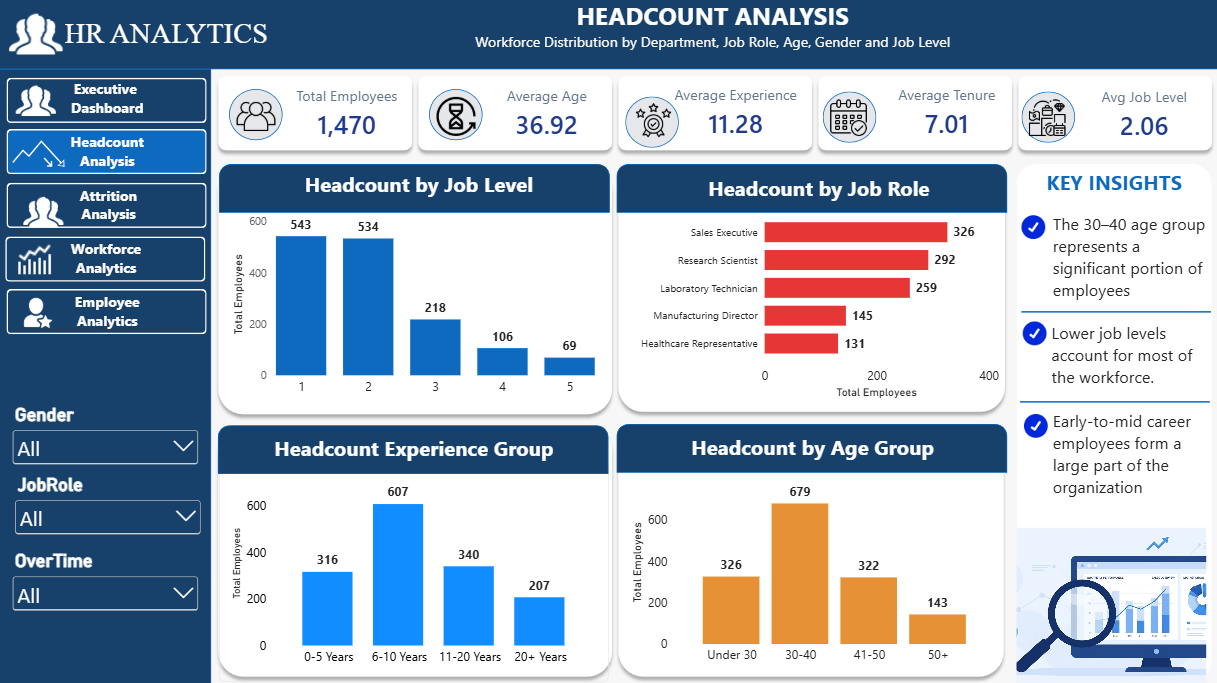

This screenshot's page, from the dashboard's own definition file:
{"tool":"powerbi","page":{"name":"HEADCOUNT ANALYSIS","canvas":[1600,900],"ordinal":1},"visuals":[{"type":"shape","box":[0,92.2,278.1,807.8],"z":0},{"type":"shape","box":[0,0,1600,92.2],"z":1000},{"type":"shape","box":[278.1,92.2,271.9,115.6],"z":2000},{"type":"shape","box":[540.6,92.2,271.9,115.6],"z":3000},{"type":"shape","box":[803.1,92.2,271.9,115.6],"z":4000},{"type":"shape","box":[1065.6,92.2,271.9,115.6],"z":5000},{"type":"shape","box":[1328.1,92.2,271.9,115.6],"z":6000},{"type":"shape","box":[278.1,207.8,534.4,345.3],"z":7000},{"type":"shape","box":[803.1,207.8,525,342.2],"z":8000},{"type":"shape","box":[9.4,103.1,262.5,59.4],"z":9000},{"type":"shape","box":[278.1,550,534.4,346.9],"z":10000},{"type":"shape","box":[803.1,550,523.4,346.9],"z":11000},{"type":"shape","box":[1334.4,215.6,256.2,676.6],"z":12000},{"type":"cardVisual","fields":{"Data":["_Measures.Total Employees"]},"box":[371.9,101.6,168.8,98.4],"z":13000},{"type":"cardVisual","fields":{"Data":["_Measures.Average Age"]},"box":[634.4,101.6,168.8,98.4],"z":14000},{"type":"cardVisual","fields":{"Data":["_Measures.Average Experience"]},"box":[867.2,100,198.4,98.4],"z":15000},{"type":"cardVisual","fields":{"Data":["_Measures.Average Tenure"]},"box":[1159.4,100,168.8,98.4],"z":16000},{"type":"cardVisual","fields":{"Data":["_Measures.Average Job Level"]},"box":[1418.8,103.1,168.8,98.4],"z":17000},{"type":"shape","box":[301.6,118.8,70.3,67.2],"z":18000},{"type":"shape","box":[564.1,118.8,70.3,67.2],"z":19000},{"type":"clusteredColumnChart","fields":{"Category":["HR Dataset.JobLevel"],"Y":["_Measures.Total Employees"]},"box":[290.6,256.2,509.4,284.4],"z":20000},{"type":"clusteredBarChart","fields":{"Category":["HR Dataset.JobRole"],"Y":["_Measures.Total Employees"]},"box":[812.5,256.2,514.1,284.4],"z":21000},{"type":"columnChart","fields":{"Category":["HR Dataset.Experience Group"],"Y":["_Measures.Total Employees"]},"box":[289.1,607.8,510.9,287.5],"z":22000},{"type":"columnChart","fields":{"Category":["HR Dataset.Age Group"],"Y":["_Measures.Total Employees"]},"box":[812.5,607.8,509.4,284.4],"z":23000},{"type":"shape","box":[289.1,215.6,512.5,64.1],"z":24000},{"type":"shape","box":[809.4,217.2,512.5,64.1],"z":25000},{"type":"shape","box":[287.5,559.4,512.5,64.1],"z":26000},{"type":"shape","box":[809.4,557.8,512.5,64.1],"z":27000},{"type":"slicer","fields":{"Values":["HR Dataset.Gender"]},"box":[12.5,531.2,253.1,82.8],"z":28000},{"type":"slicer","fields":{"Values":["HR Dataset.JobRole"]},"box":[15.6,623.4,253.1,82.8],"z":29000},{"type":"slicer","fields":{"Values":["HR Dataset.OverTime"]},"box":[12.5,723.4,253.1,82.8],"z":30000},{"type":"shape","box":[9.4,240.6,262.5,59.4],"z":31000},{"type":"shape","box":[7.8,310.9,262.5,59.4],"z":32000},{"type":"shape","box":[9.4,379.7,262.5,59.4],"z":33000},{"type":"textbox","box":[10.9,104.7,260.9,53.1],"z":34000},{"type":"textbox","box":[12.5,243.8,260.9,53.1],"z":35000},{"type":"textbox","box":[9.4,314.1,260.9,53.1],"z":36000},{"type":"textbox","box":[10.9,382.8,260.9,53.1],"z":37000},{"type":"textbox","box":[550,0,770.3,92.2],"z":38000},{"type":"textbox","box":[82.8,23.4,271.9,68.8],"z":39000},{"type":"textbox","box":[314.1,225,471.9,45.3],"z":40000},{"type":"textbox","box":[839.1,229.7,471.9,45.3],"z":41000},{"type":"textbox","box":[307.8,570.3,471.9,45.3],"z":42000},{"type":"textbox","box":[831.2,568.8,471.9,45.3],"z":43000},{"type":"textbox","box":[1337.5,221.9,250,45.3],"z":44000},{"type":"textbox","box":[1381.2,279.7,206.2,118.8],"z":45000},{"type":"textbox","box":[1379.7,423.4,206.2,93.8],"z":46000},{"type":"textbox","box":[1381.2,537.5,201.6,126.6],"z":47000},{"type":"shape","box":[1340.6,403.1,248.4,14.1],"z":48000},{"type":"shape","box":[1339.1,521.9,248.4,14.1],"z":49000},{"type":"image","box":[310.9,115.6,51.6,75],"z":50000},{"type":"image","box":[573.4,115.6,51.6,75],"z":51000},{"type":"image","box":[12.5,9.4,70.3,75],"z":52000},{"type":"image","box":[1339.1,282.8,34.4,31.2],"z":53000},{"type":"image","box":[1340.6,423.4,34.4,31.2],"z":54000},{"type":"image","box":[1342.2,543.8,34.4,31.2],"z":55000},{"type":"image","box":[22.5,253.8,70.3,53.1],"z":56000},{"type":"image","box":[10.9,314.1,70.3,53.1],"z":57000},{"type":"image","box":[12.5,382.8,70.3,53.1],"z":58000},{"type":"image","box":[12.5,107.8,70.3,53.1],"z":59000},{"type":"image","box":[1334.4,693.8,248.4,203.1],"z":60000},{"type":"shape","box":[9.4,170.3,262.5,59.4],"z":61000},{"type":"textbox","box":[10.9,173.4,260.9,53.1],"z":62000},{"type":"image","box":[15.6,175,70.3,53.1],"z":63000},{"type":"shape","box":[822,128,70.3,67.2],"z":64000},{"type":"image","box":[832,122,51.6,75],"z":65000},{"type":"shape","box":[1079.6,120.8,70.3,67.2],"z":66000},{"type":"image","box":[1088.9,117.6,51.6,75],"z":67000},{"type":"shape","box":[1340.4,120.8,70.3,67.2],"z":68000},{"type":"image","box":[1349.7,117.6,51.6,75],"z":69000},{"type":"actionButton","box":[6.6,241,264.7,58.8],"z":69001},{"type":"actionButton","box":[6.6,104.9,264.7,58.8],"z":69002},{"type":"actionButton","box":[8.2,311.5,264.7,58.8],"z":69003},{"type":"actionButton","box":[11.5,380.3,264.7,58.8],"z":69004}]}

Visuals, with their boxes in screenshot pixels (x1, y1, x2, y2), scaled from the page's 1600x900 canvas onto the 1217x683 screenshot:
shape: [x1=0, y1=70, x2=212, y2=682]
shape: [x1=0, y1=0, x2=1216, y2=70]
shape: [x1=212, y1=70, x2=418, y2=158]
shape: [x1=411, y1=70, x2=618, y2=158]
shape: [x1=611, y1=70, x2=818, y2=158]
shape: [x1=811, y1=70, x2=1017, y2=158]
shape: [x1=1010, y1=70, x2=1216, y2=158]
shape: [x1=212, y1=158, x2=618, y2=420]
shape: [x1=611, y1=158, x2=1010, y2=417]
shape: [x1=7, y1=78, x2=207, y2=123]
shape: [x1=212, y1=417, x2=618, y2=681]
shape: [x1=611, y1=417, x2=1009, y2=681]
shape: [x1=1015, y1=164, x2=1210, y2=677]
cardVisual - _Measures.Total Employees: [x1=283, y1=77, x2=411, y2=152]
cardVisual - _Measures.Average Age: [x1=483, y1=77, x2=611, y2=152]
cardVisual - _Measures.Average Experience: [x1=660, y1=76, x2=811, y2=151]
cardVisual - _Measures.Average Tenure: [x1=882, y1=76, x2=1010, y2=151]
cardVisual - _Measures.Average Job Level: [x1=1079, y1=78, x2=1208, y2=153]
shape: [x1=229, y1=90, x2=283, y2=141]
shape: [x1=429, y1=90, x2=483, y2=141]
clusteredColumnChart - HR Dataset.JobLevel x _Measures.Total Employees: [x1=221, y1=194, x2=608, y2=410]
clusteredBarChart - HR Dataset.JobRole x _Measures.Total Employees: [x1=618, y1=194, x2=1009, y2=410]
columnChart - HR Dataset.Experience Group x _Measures.Total Employees: [x1=220, y1=461, x2=608, y2=679]
columnChart - HR Dataset.Age Group x _Measures.Total Employees: [x1=618, y1=461, x2=1005, y2=677]
shape: [x1=220, y1=164, x2=610, y2=212]
shape: [x1=616, y1=165, x2=1005, y2=213]
shape: [x1=219, y1=425, x2=608, y2=473]
shape: [x1=616, y1=423, x2=1005, y2=472]
slicer - HR Dataset.Gender: [x1=10, y1=403, x2=202, y2=466]
slicer - HR Dataset.JobRole: [x1=12, y1=473, x2=204, y2=536]
slicer - HR Dataset.OverTime: [x1=10, y1=549, x2=202, y2=612]
shape: [x1=7, y1=183, x2=207, y2=228]
shape: [x1=6, y1=236, x2=206, y2=281]
shape: [x1=7, y1=288, x2=207, y2=333]
textbox: [x1=8, y1=79, x2=207, y2=120]
textbox: [x1=10, y1=185, x2=208, y2=225]
textbox: [x1=7, y1=238, x2=206, y2=279]
textbox: [x1=8, y1=291, x2=207, y2=331]
textbox: [x1=418, y1=0, x2=1004, y2=70]
textbox: [x1=63, y1=18, x2=270, y2=70]
textbox: [x1=239, y1=171, x2=598, y2=205]
textbox: [x1=638, y1=174, x2=997, y2=209]
textbox: [x1=234, y1=433, x2=593, y2=467]
textbox: [x1=632, y1=432, x2=991, y2=466]
textbox: [x1=1017, y1=168, x2=1207, y2=203]
textbox: [x1=1051, y1=212, x2=1207, y2=302]
textbox: [x1=1049, y1=321, x2=1206, y2=392]
textbox: [x1=1051, y1=408, x2=1204, y2=504]
shape: [x1=1020, y1=306, x2=1209, y2=317]
shape: [x1=1019, y1=396, x2=1207, y2=407]
image: [x1=236, y1=88, x2=276, y2=145]
image: [x1=436, y1=88, x2=475, y2=145]
image: [x1=10, y1=7, x2=63, y2=64]
image: [x1=1019, y1=215, x2=1045, y2=238]
image: [x1=1020, y1=321, x2=1046, y2=345]
image: [x1=1021, y1=413, x2=1047, y2=436]
image: [x1=17, y1=193, x2=71, y2=233]
image: [x1=8, y1=238, x2=62, y2=279]
image: [x1=10, y1=291, x2=63, y2=331]
image: [x1=10, y1=82, x2=63, y2=122]
image: [x1=1015, y1=527, x2=1204, y2=681]
shape: [x1=7, y1=129, x2=207, y2=174]
textbox: [x1=8, y1=132, x2=207, y2=172]
image: [x1=12, y1=133, x2=65, y2=173]
shape: [x1=625, y1=97, x2=679, y2=148]
image: [x1=633, y1=93, x2=672, y2=150]
shape: [x1=821, y1=92, x2=875, y2=143]
image: [x1=828, y1=89, x2=867, y2=146]
shape: [x1=1020, y1=92, x2=1073, y2=143]
image: [x1=1027, y1=89, x2=1066, y2=146]
actionButton: [x1=5, y1=183, x2=206, y2=228]
actionButton: [x1=5, y1=80, x2=206, y2=124]
actionButton: [x1=6, y1=236, x2=208, y2=281]
actionButton: [x1=9, y1=289, x2=210, y2=333]
